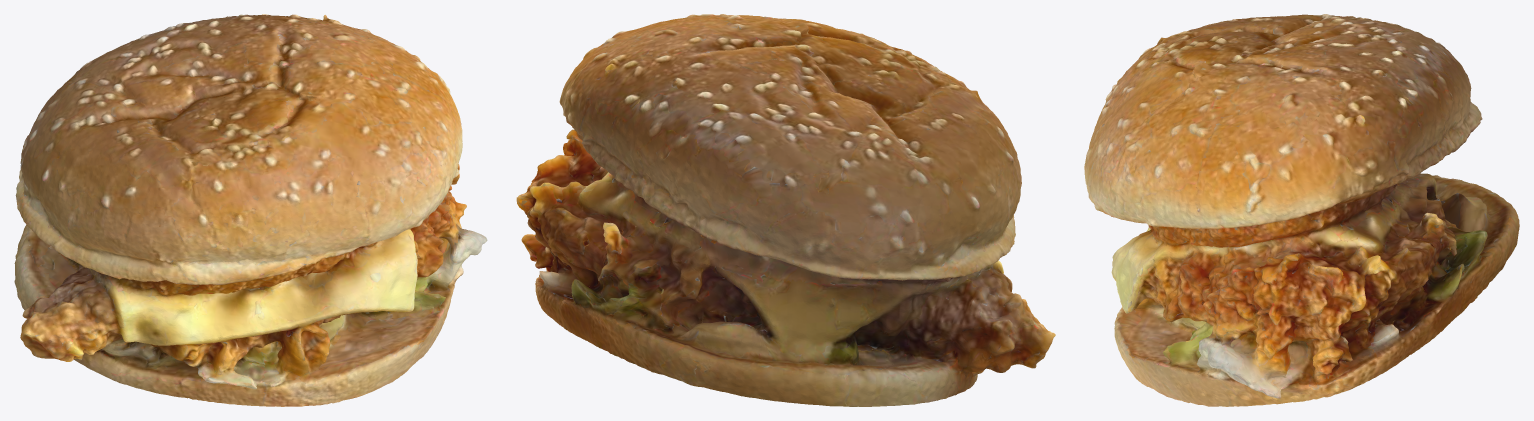
File: burger-v1.glb
3 views of the same model, side by side, from view 1: azimuth 30°, elevation 25°; view 2: azimuth 150°, elevation 25°; view 3: azimuth 270°, elevation 25° (orthographic). The views are drawn at different scales.
Parts seen in each view (by area): view 1: GeometryNode_5, GeometryNode_17; view 2: GeometryNode_5, GeometryNode_17; view 3: GeometryNode_5, GeometryNode_17.
Boxes of the visible parts, x1,y1,x2,y2 form: GeometryNode_5: (19,14,487,406); GeometryNode_17: (14,15,485,406); GeometryNode_5: (516,14,1036,406); GeometryNode_17: (517,14,1055,406); GeometryNode_5: (1084,14,1516,406); GeometryNode_17: (1084,16,1519,406).
Size of the model in its own units: 0.1382 by 0.0851 by 0.1118.
1 material, 1 textured.
